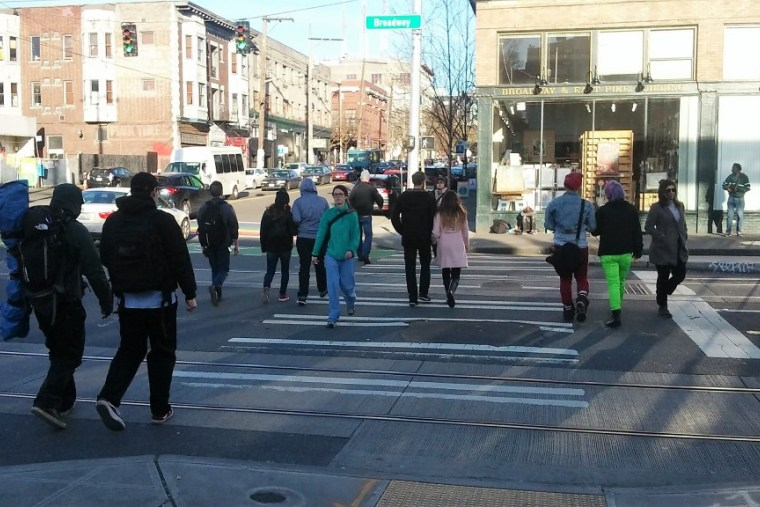pedestrian: (89, 162, 192, 429), (18, 178, 106, 440), (539, 166, 601, 329), (309, 182, 366, 330), (591, 177, 642, 331), (386, 168, 440, 309), (191, 180, 246, 311), (646, 177, 693, 320), (428, 187, 472, 316), (291, 169, 330, 305), (255, 180, 298, 299), (719, 161, 752, 237)
